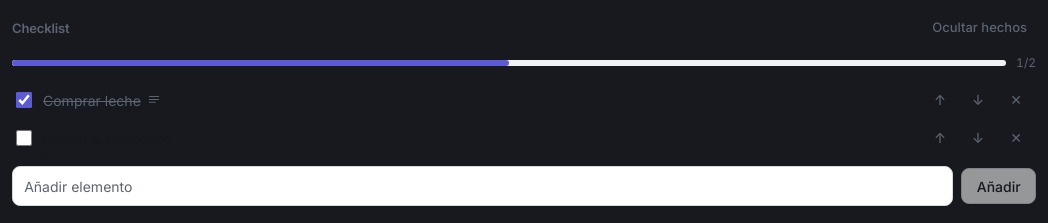
it: Checklist › oculta y muestra los elementos hechos sin tocar los datos
Expected: the text "Comprar leche" is shown, [43, 90, 141, 110]
Click the button "Ocultar hechos": [980, 28] box [923, 12, 1036, 44]
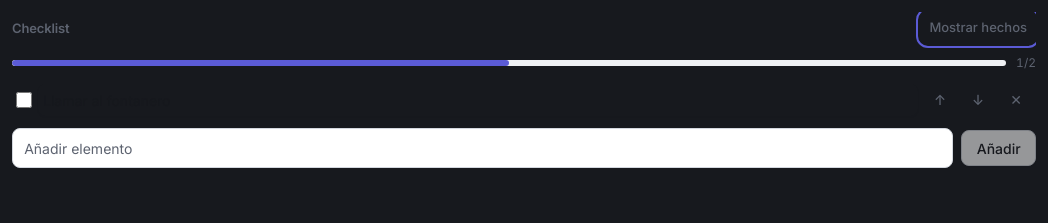
Result: the button "Comprar leche" is gone
Click the button "Mostrar hechos": [978, 28] box [920, 12, 1036, 44]
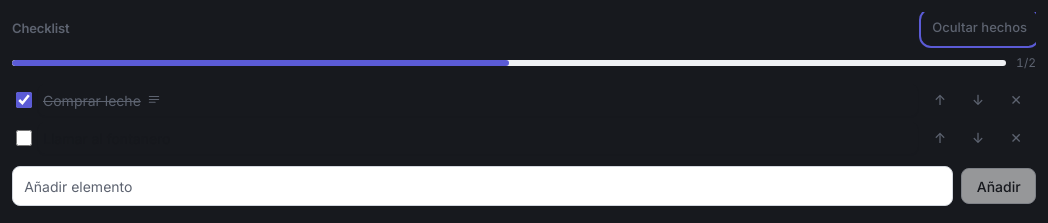
Result: the text "Comprar leche" is shown at [43, 90, 141, 110]
